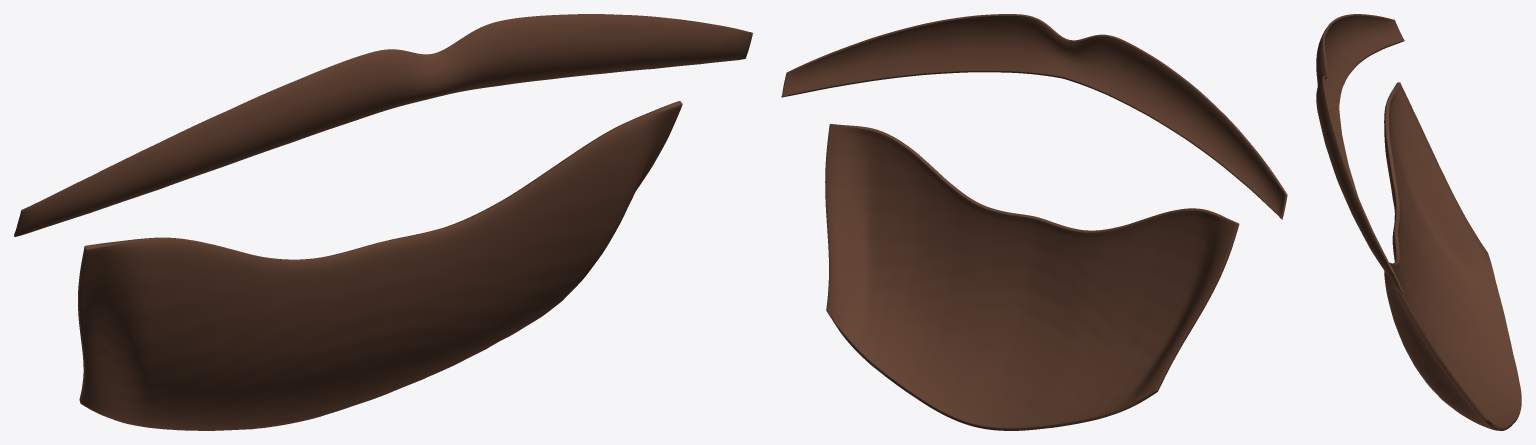
File: Masculine-groom-goatee.glb
The picture shows the model from 3 angles, left to right: view 1: azimuth 30°, elevation 25°; view 2: azimuth 150°, elevation 25°; view 3: azimuth 270°, elevation 25°; orthographic projection. The views are drawn at different scales.
Parts seen in each view (by area): view 1: Groom / goatee body184, Groom / shared mustache185; view 2: Groom / goatee body184, Groom / shared mustache185; view 3: Groom / goatee body184, Groom / shared mustache185.
Part boxes in pixels (x1,y1,x2,y2): Groom / goatee body184: [78, 101, 682, 430]; Groom / shared mustache185: [14, 14, 752, 236]; Groom / goatee body184: [825, 124, 1239, 430]; Groom / shared mustache185: [781, 14, 1287, 219]; Groom / goatee body184: [1384, 82, 1521, 430]; Groom / shared mustache185: [1316, 14, 1404, 294].
Bounding box in the file's own units: 0.3012 × 0.1902 × 0.1031.
